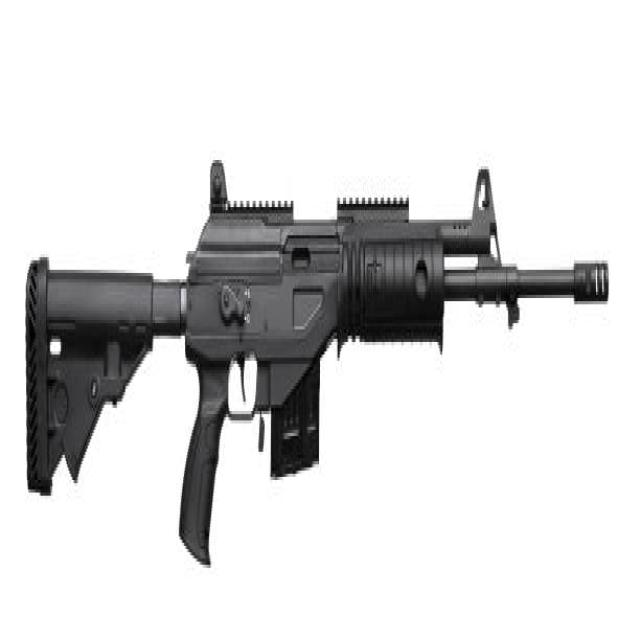rifle: (21, 155, 616, 583)
